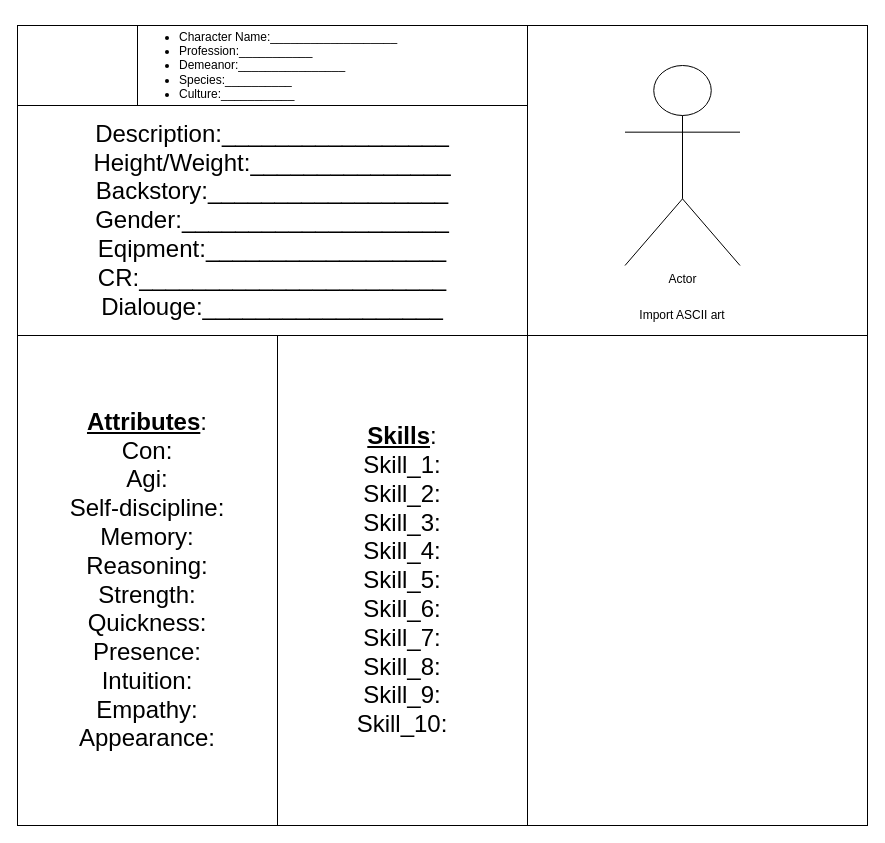
Image size: 885x843. Some labels were removed from this diagram. The shapes that lost their labels are listed below. From the top down, each one's centre as x and y in pixels, then its label:
point (77, 65): Faction:_____
point (697, 580): Special Abilities : SB_1: SB_2: SB_3: SB_4: SB_5: SB_6: SB_7: SB_8: SB_9:
